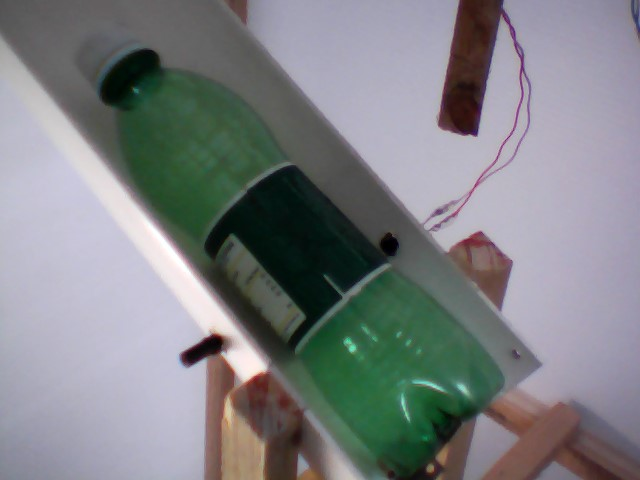plastico: (72, 24, 516, 480)
